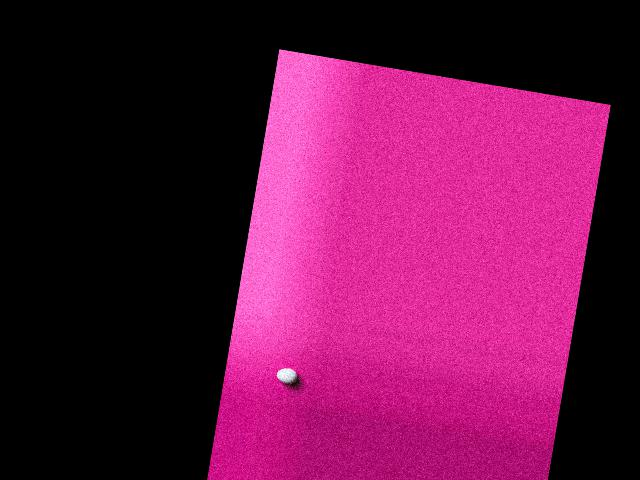egg: (275, 366, 298, 384)
